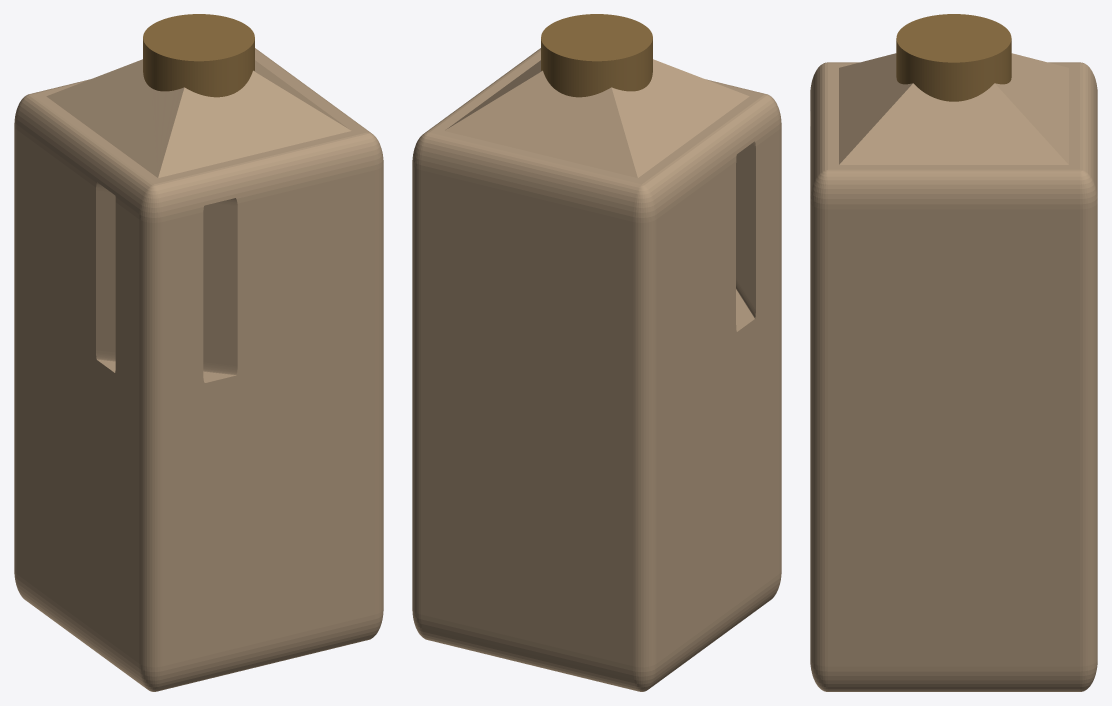
The model's file is chocky milk.glb.
The picture shows the model from 3 angles, left to right: view 1: azimuth 30°, elevation 25°; view 2: azimuth 150°, elevation 25°; view 3: azimuth 270°, elevation 25°; orthographic projection. The views are drawn at different scales.
Visible parts, largest first — view 1: Mesh_Mesh_head_geo.001_lambert2SG.001; view 2: Mesh_Mesh_head_geo.001_lambert2SG.001; view 3: Mesh_Mesh_head_geo.001_lambert2SG.001.
Part boxes in pixels (x1,y1,x2,y2): Mesh_Mesh_head_geo.001_lambert2SG.001: (14, 14, 383, 691); Mesh_Mesh_head_geo.001_lambert2SG.001: (412, 14, 781, 691); Mesh_Mesh_head_geo.001_lambert2SG.001: (810, 14, 1097, 691).
Bounding box in the file's own units: 0.01 × 0.023 × 0.01.
